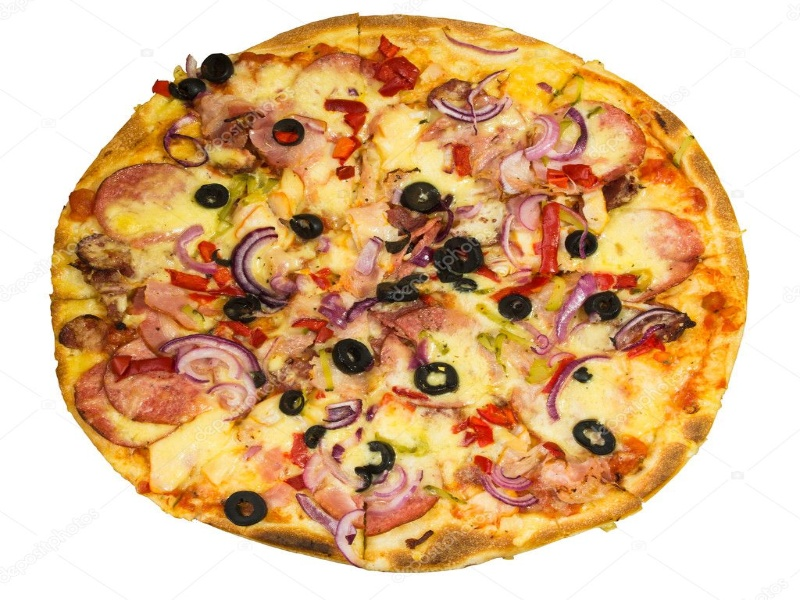olive noir: (324, 334, 374, 376), (223, 484, 270, 524), (572, 417, 620, 456), (417, 359, 457, 393), (287, 209, 327, 241), (403, 184, 441, 214), (190, 181, 226, 212), (504, 293, 530, 324)
